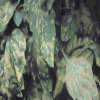Tomato mold leaf: (24, 1, 57, 70), (66, 55, 99, 99), (5, 30, 26, 77)
